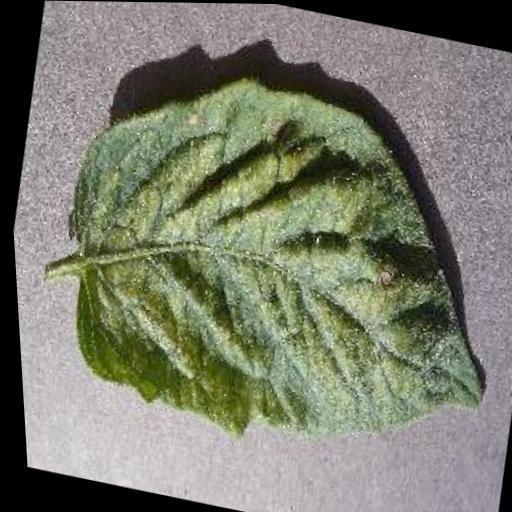Spider Mites: (24, 44, 512, 478)
